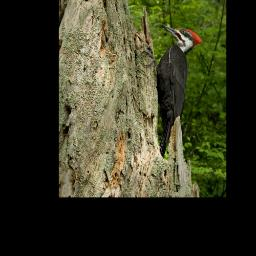Woodpecker: (141, 24, 203, 160)
